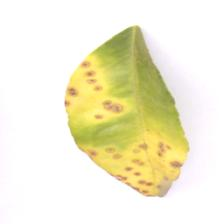canker: (59, 48, 184, 196)
